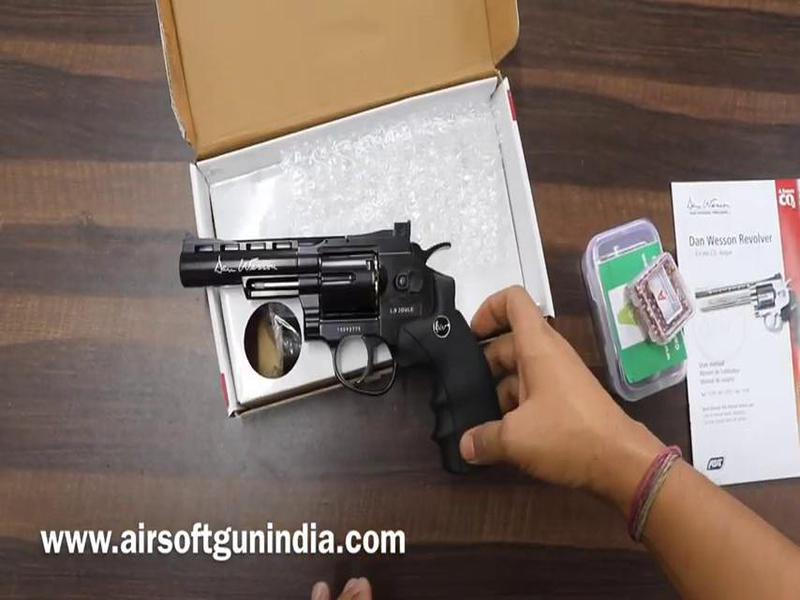Revolver: (187, 231, 514, 458)
